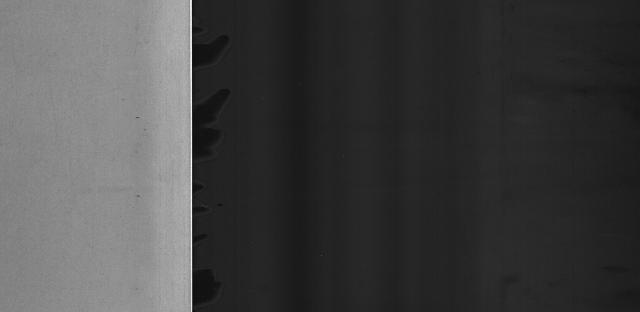inclusion: (133, 112, 144, 126), (132, 190, 143, 204)
